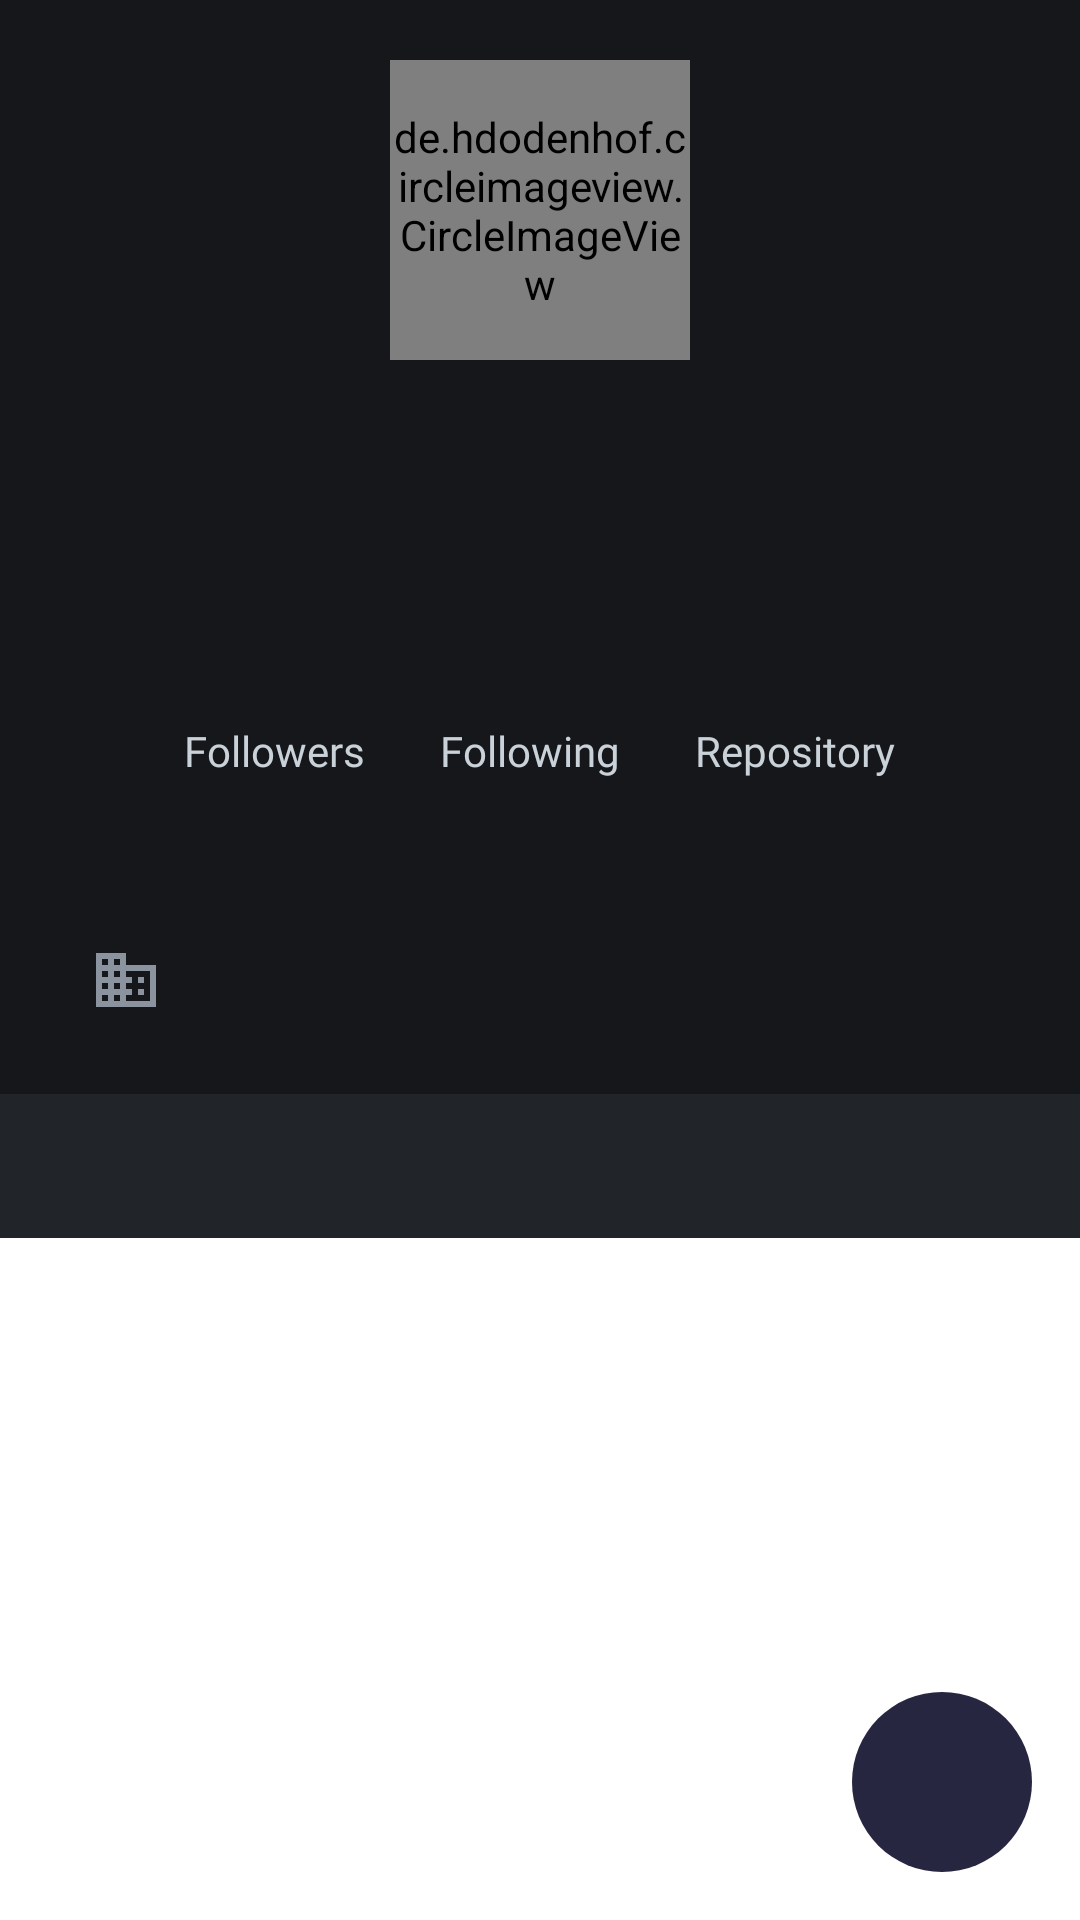

Icons on this 1080px x 1920px Android screen, each with the point to tap as (x,y):
company: (126,980)
